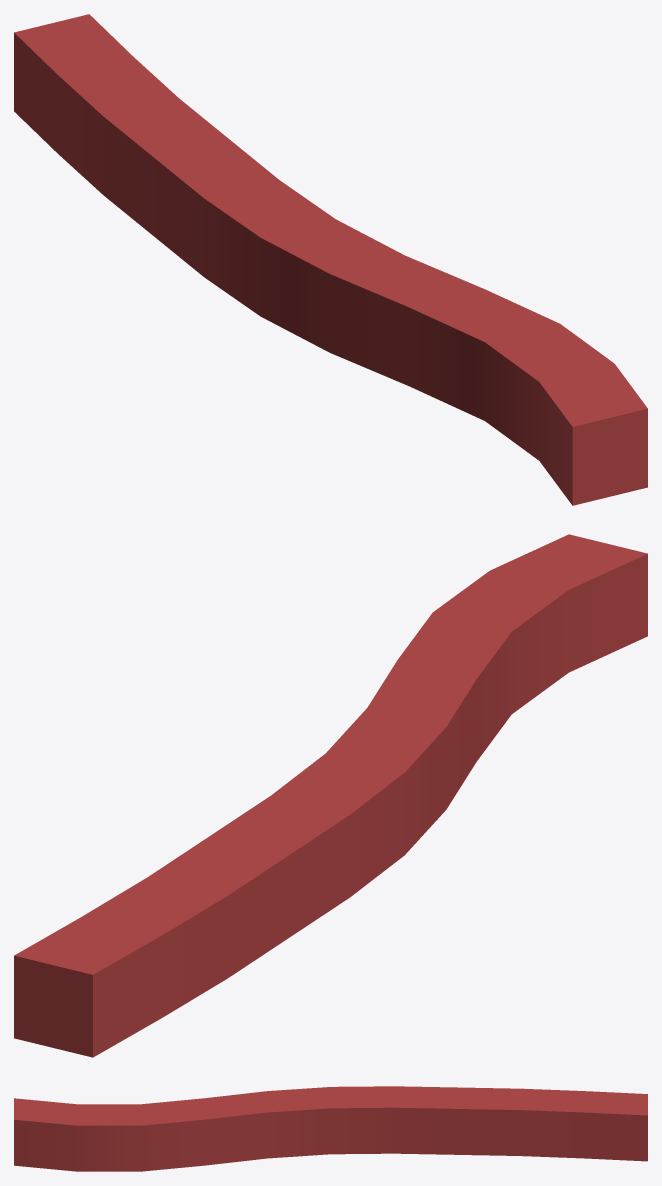
File: Rubber.FBX
3 renders of one model, top to bottom at view 1: azimuth 30°, elevation 25°; view 2: azimuth 150°, elevation 25°; view 3: azimuth 270°, elevation 25°, orthographic. The views are drawn at different scales.
Parts seen in each view (by area): view 1: Box007; view 2: Box007; view 3: Box007.
Part boxes in pixels (x1,y1,x2,y2): Box007: (14, 14, 647, 505); Box007: (14, 534, 647, 1057); Box007: (14, 1086, 647, 1171).
Size of the model in its own units: 0.0147 by 0.008 by 0.1.
